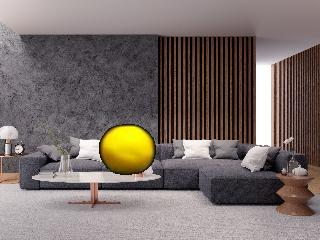lemon: (100, 126, 154, 174)
